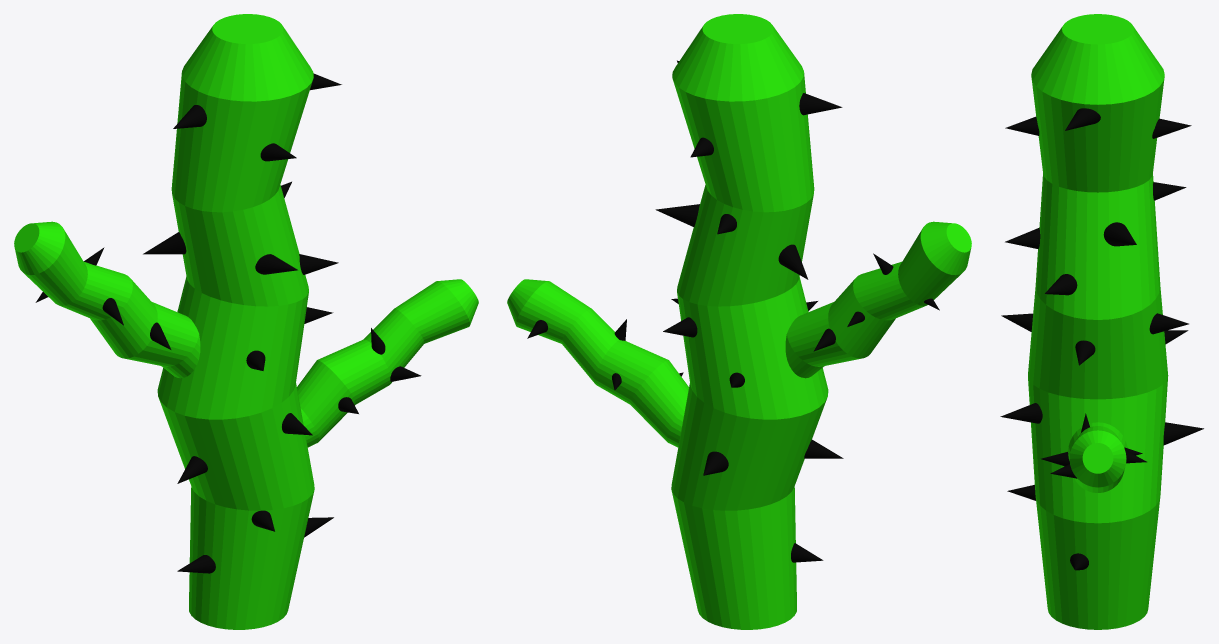
Rendered from Cactus2.glb.
3 views of the same model, side by side, from view 1: azimuth 30°, elevation 25°; view 2: azimuth 150°, elevation 25°; view 3: azimuth 270°, elevation 25° (orthographic).
Visible parts, largest first — view 1: Cylinder.002, Cone.030; view 2: Cylinder.002, Cone.030; view 3: Cylinder.002, Cone.030.
Part boxes in pixels (left/top/right/bottom): Cylinder.002: left=14, top=14, right=478, bottom=629; Cone.030: left=35, top=73, right=421, bottom=573; Cylinder.002: left=507, top=14, right=971, bottom=629; Cone.030: left=527, top=60, right=939, bottom=562; Cylinder.002: left=1028, top=14, right=1168, bottom=629; Cone.030: left=1000, top=108, right=1203, bottom=570.
Size of the model in its own units: 8 by 9.65 by 3.06.
